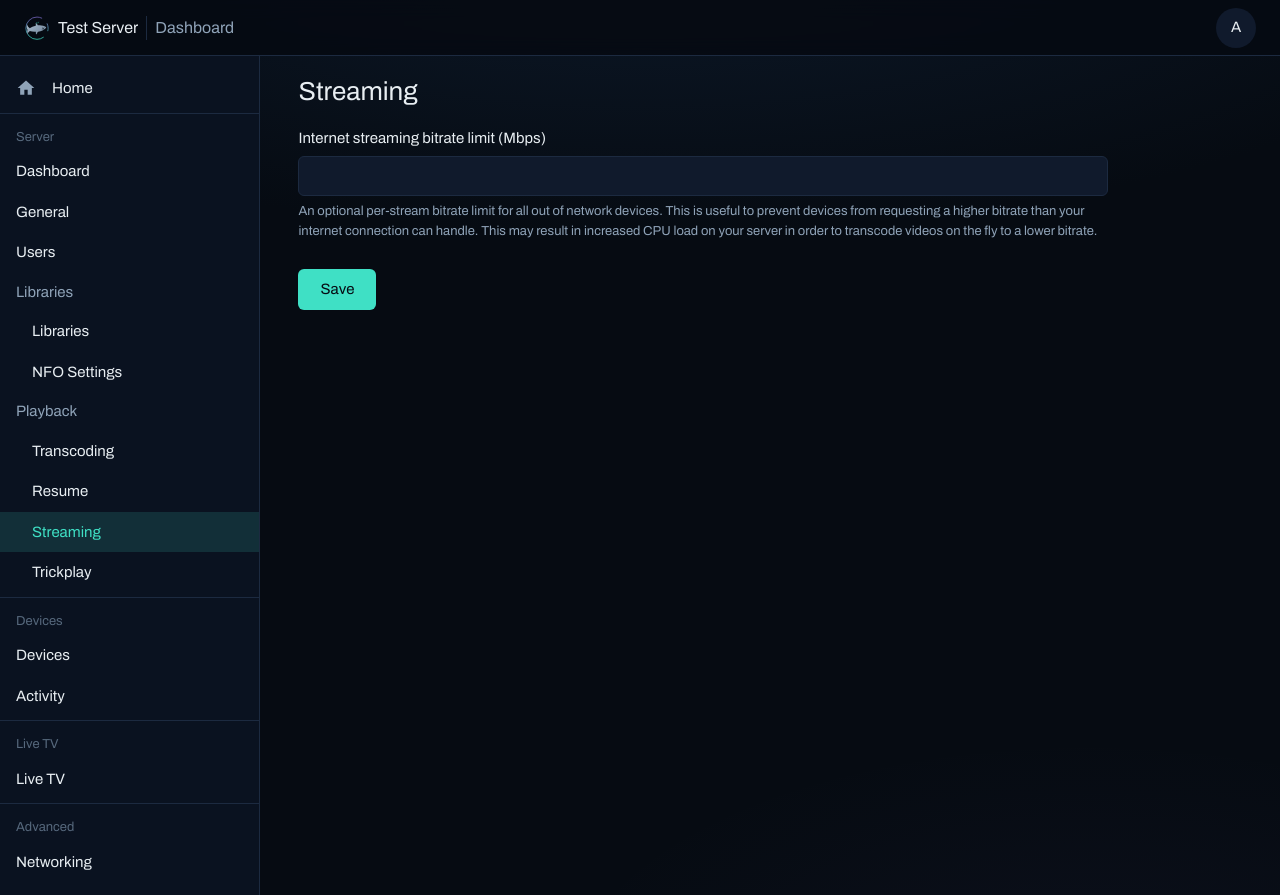
it: resume, streaming, trickplay › streaming saves Mbps as bits per second
The image size is (1280, 895).
Type "12.5" into the number field labelled "Internet streaming bitrate limit (Mbps)" at (703, 176), box [298,156,1108,196]
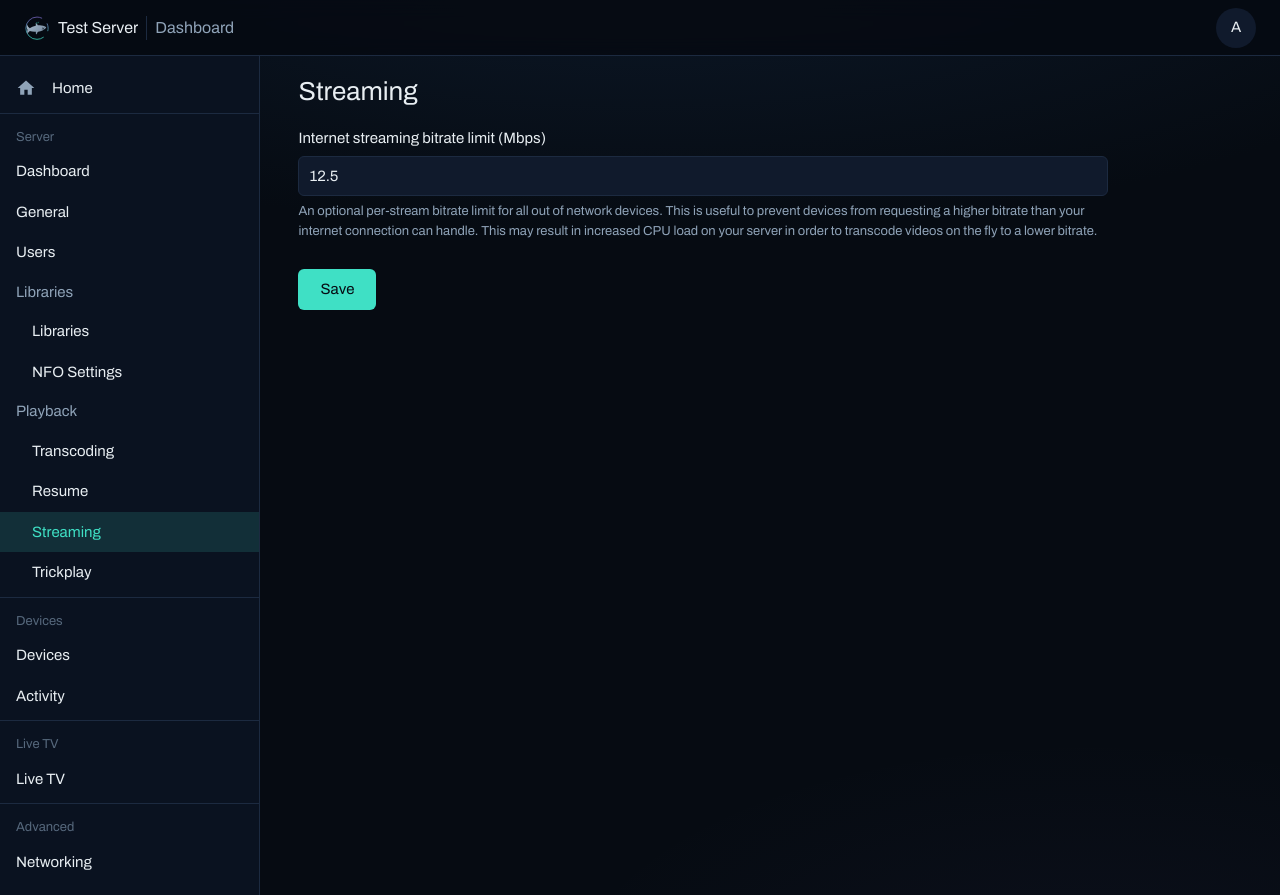
Click the button "Save" at (337, 289), box [298,269,376,310]
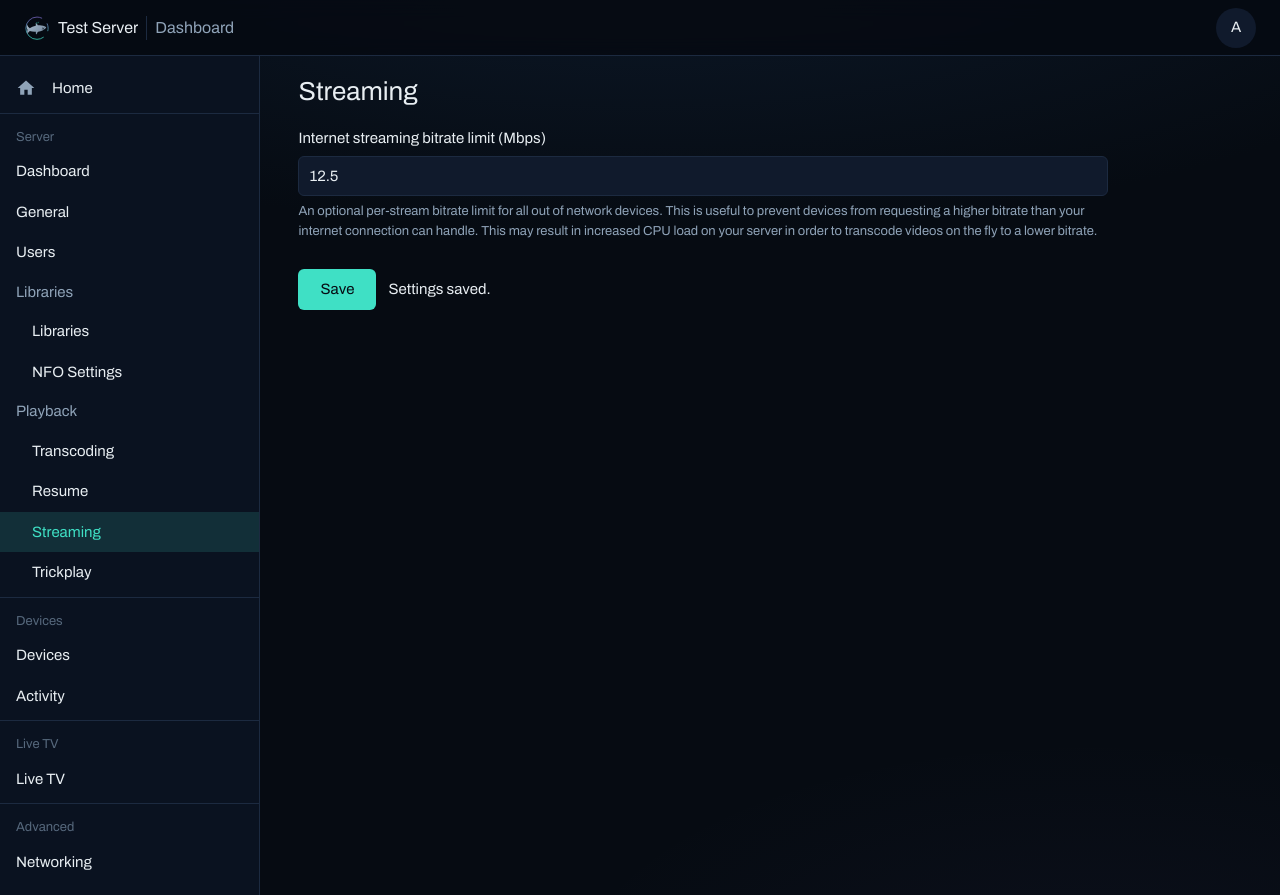
Expected: the text "Settings saved." is shown, [388,278,491,300]
